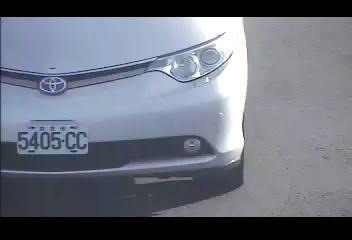plate: (16, 125, 89, 156)
